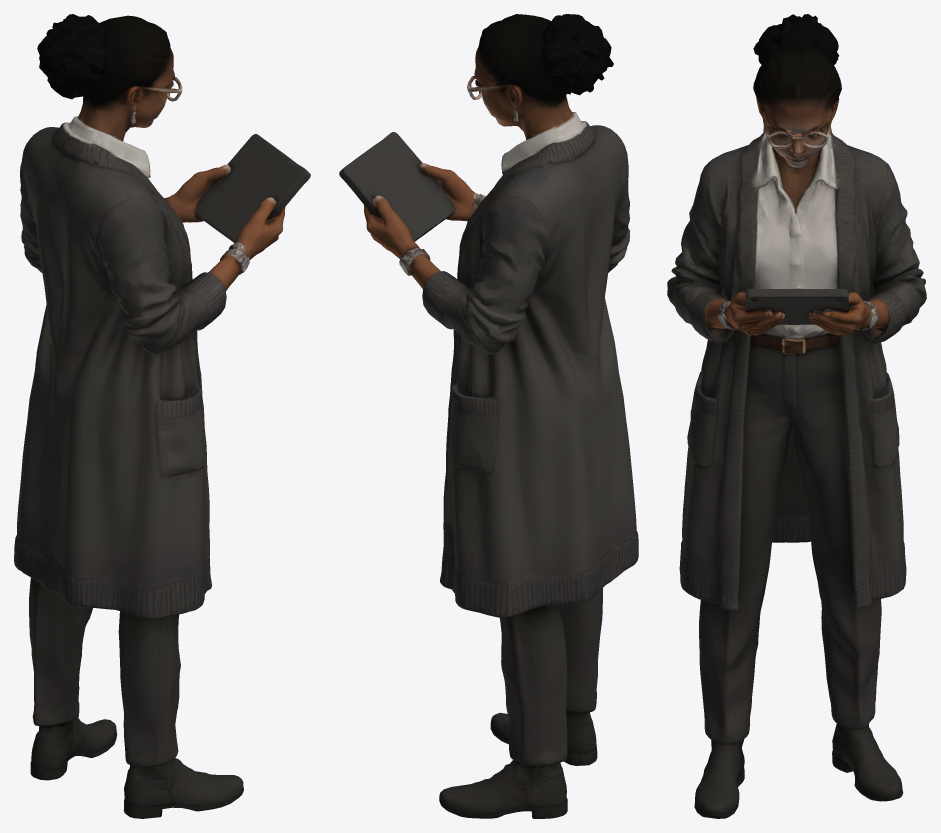
Rendered from nia.glb.
3 views of the same model, side by side, from view 1: azimuth 30°, elevation 25°; view 2: azimuth 150°, elevation 25°; view 3: azimuth 270°, elevation 25° (orthographic). The views are drawn at different scales.
Parts seen in each view (by area): view 1: tripo_node_93fdf247-d4d5-4988-afde-ea9f3ed7e076; view 2: tripo_node_93fdf247-d4d5-4988-afde-ea9f3ed7e076; view 3: tripo_node_93fdf247-d4d5-4988-afde-ea9f3ed7e076.
Part boxes in pixels (x1,y1,x2,y2): tripo_node_93fdf247-d4d5-4988-afde-ea9f3ed7e076: [14, 14, 310, 818]; tripo_node_93fdf247-d4d5-4988-afde-ea9f3ed7e076: [339, 14, 638, 818]; tripo_node_93fdf247-d4d5-4988-afde-ea9f3ed7e076: [667, 14, 926, 818].
Bounding box in the file's own units: 0.3352 × 1 × 0.3132.
1 material, 1 textured.
